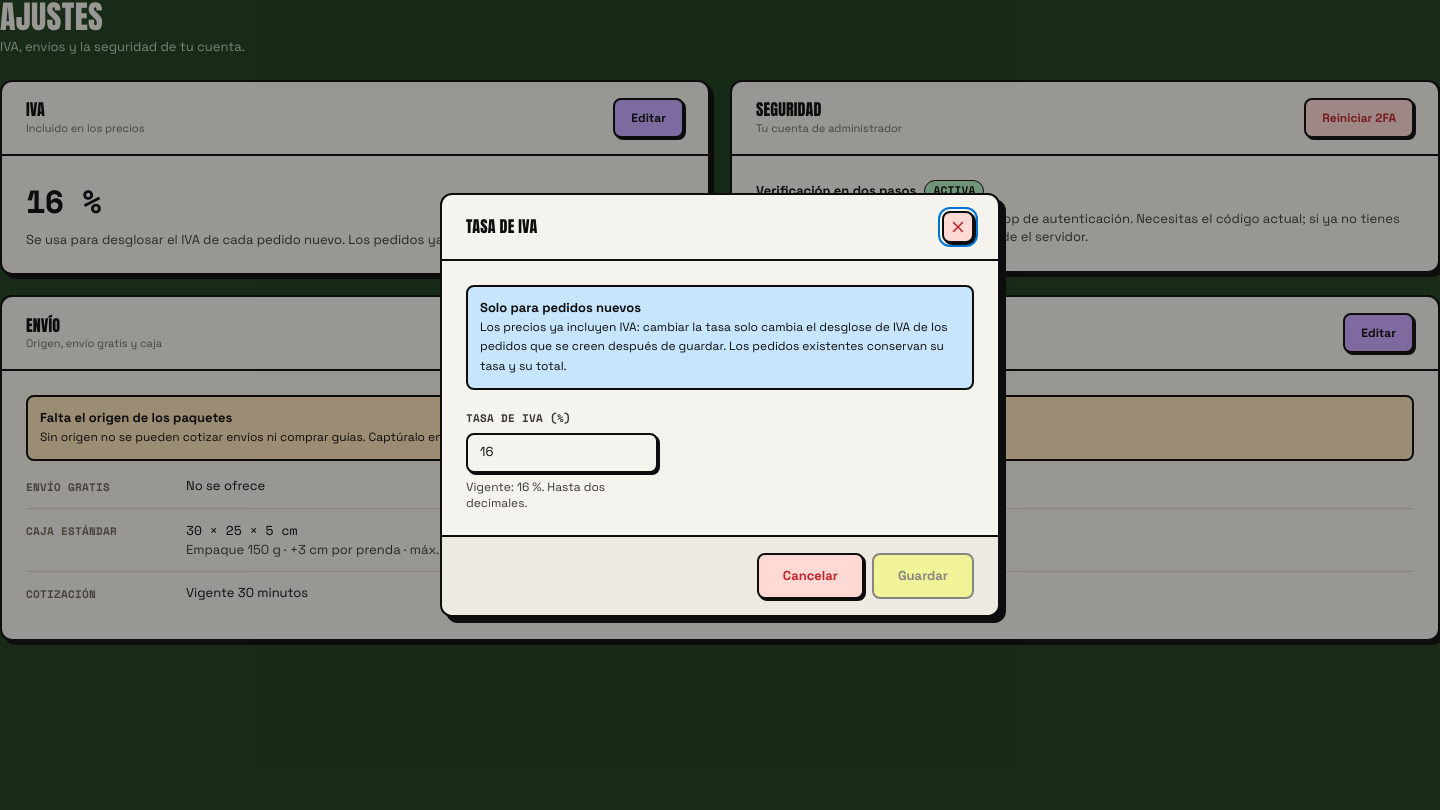
Scenario: SettingsPage › un error del API al guardar el IVA se muestra y el modal sigue abierto
Replace the text in the field labelled "Tasa de IVA (%)" with "10" at (562, 452), box [480,443,644,462]
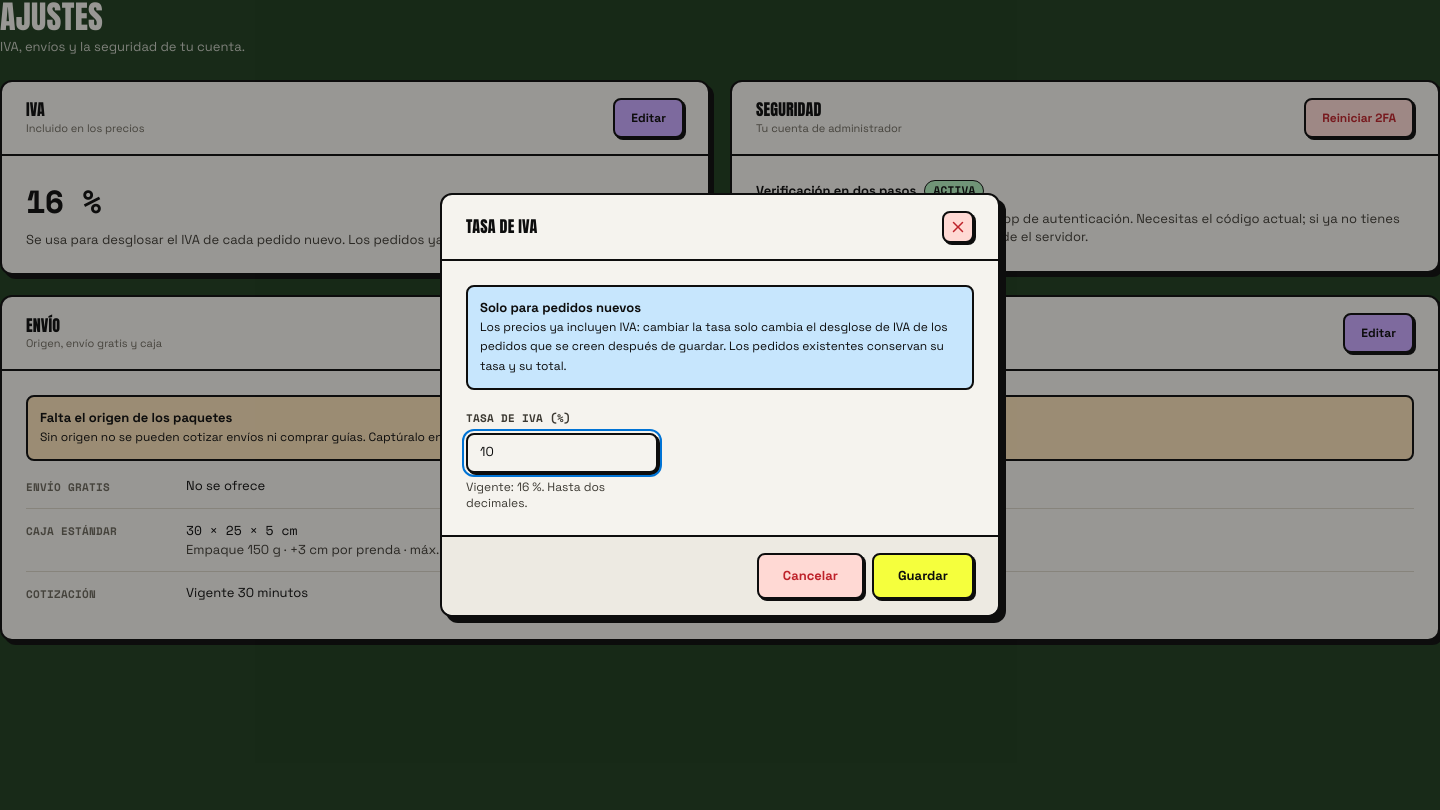
Click the button "Guardar".
click(923, 576)  # box [872,552,974,599]
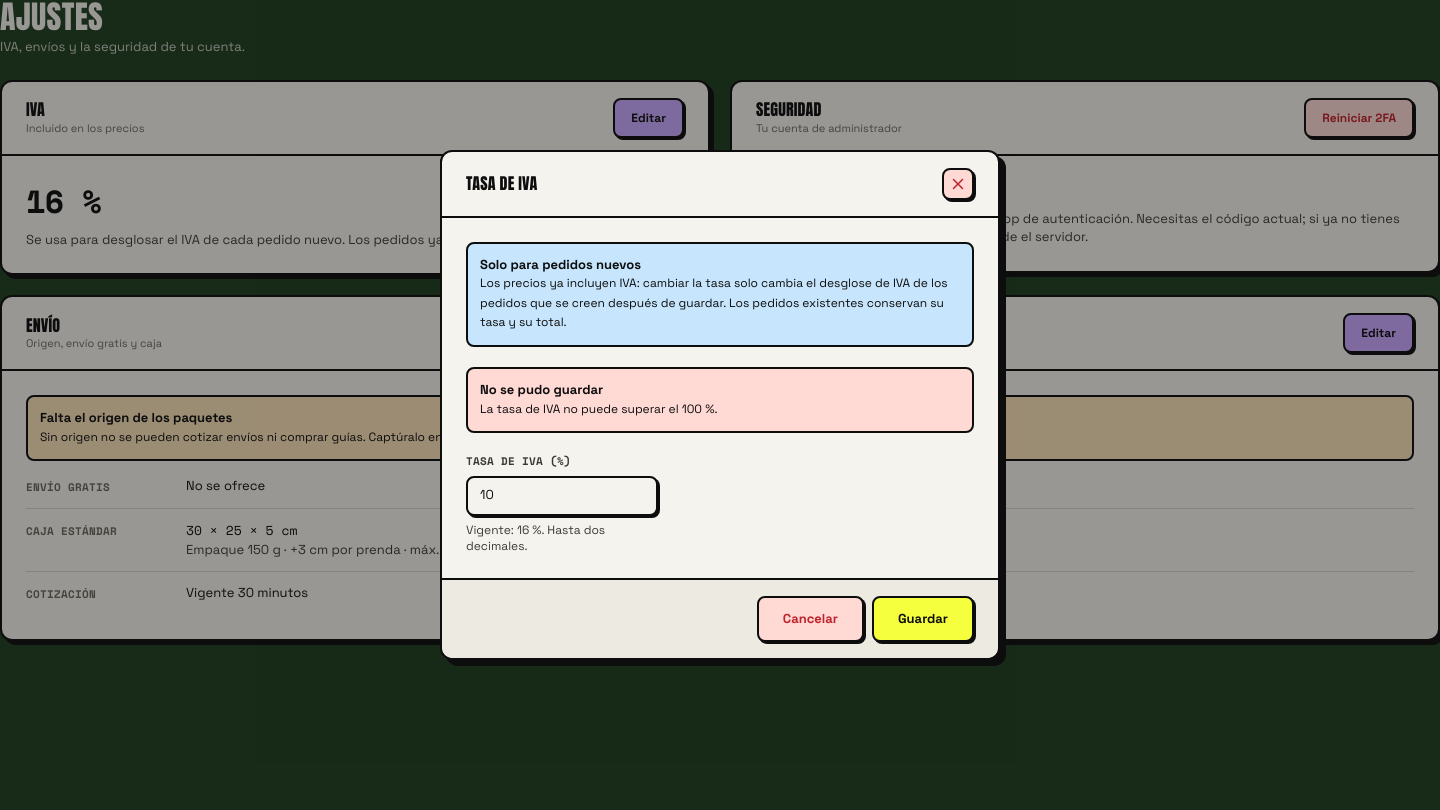
Check: the dialog "Tasa de IVA" is shown, box [440,150,1000,660]
Check: the text "La tasa de IVA no puede superar el 100 %." is shown, box [480,400,718,419]
